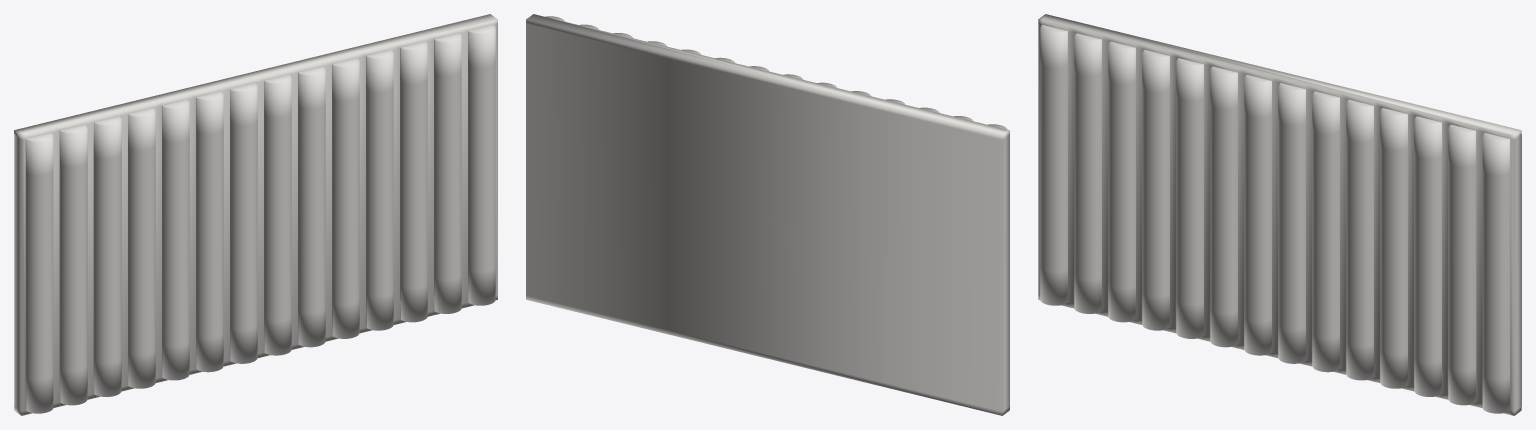
Rendered from minimalist_fluted_wall_panel.glb.
The picture shows the model from 3 angles, left to right: view 1: azimuth 30°, elevation 25°; view 2: azimuth 150°, elevation 25°; view 3: azimuth 330°, elevation 25°; orthographic projection.
Visible parts, largest first — view 1: skfb_offset; view 2: skfb_offset; view 3: skfb_offset.
Boxes of the visible parts, x1=… form: skfb_offset: x1=14, y1=14, x2=497, y2=415; skfb_offset: x1=526, y1=14, x2=1009, y2=415; skfb_offset: x1=1038, y1=14, x2=1521, y2=415.
Size of the model in its own units: 560 by 315 by 30.
1 material, 1 textured.
